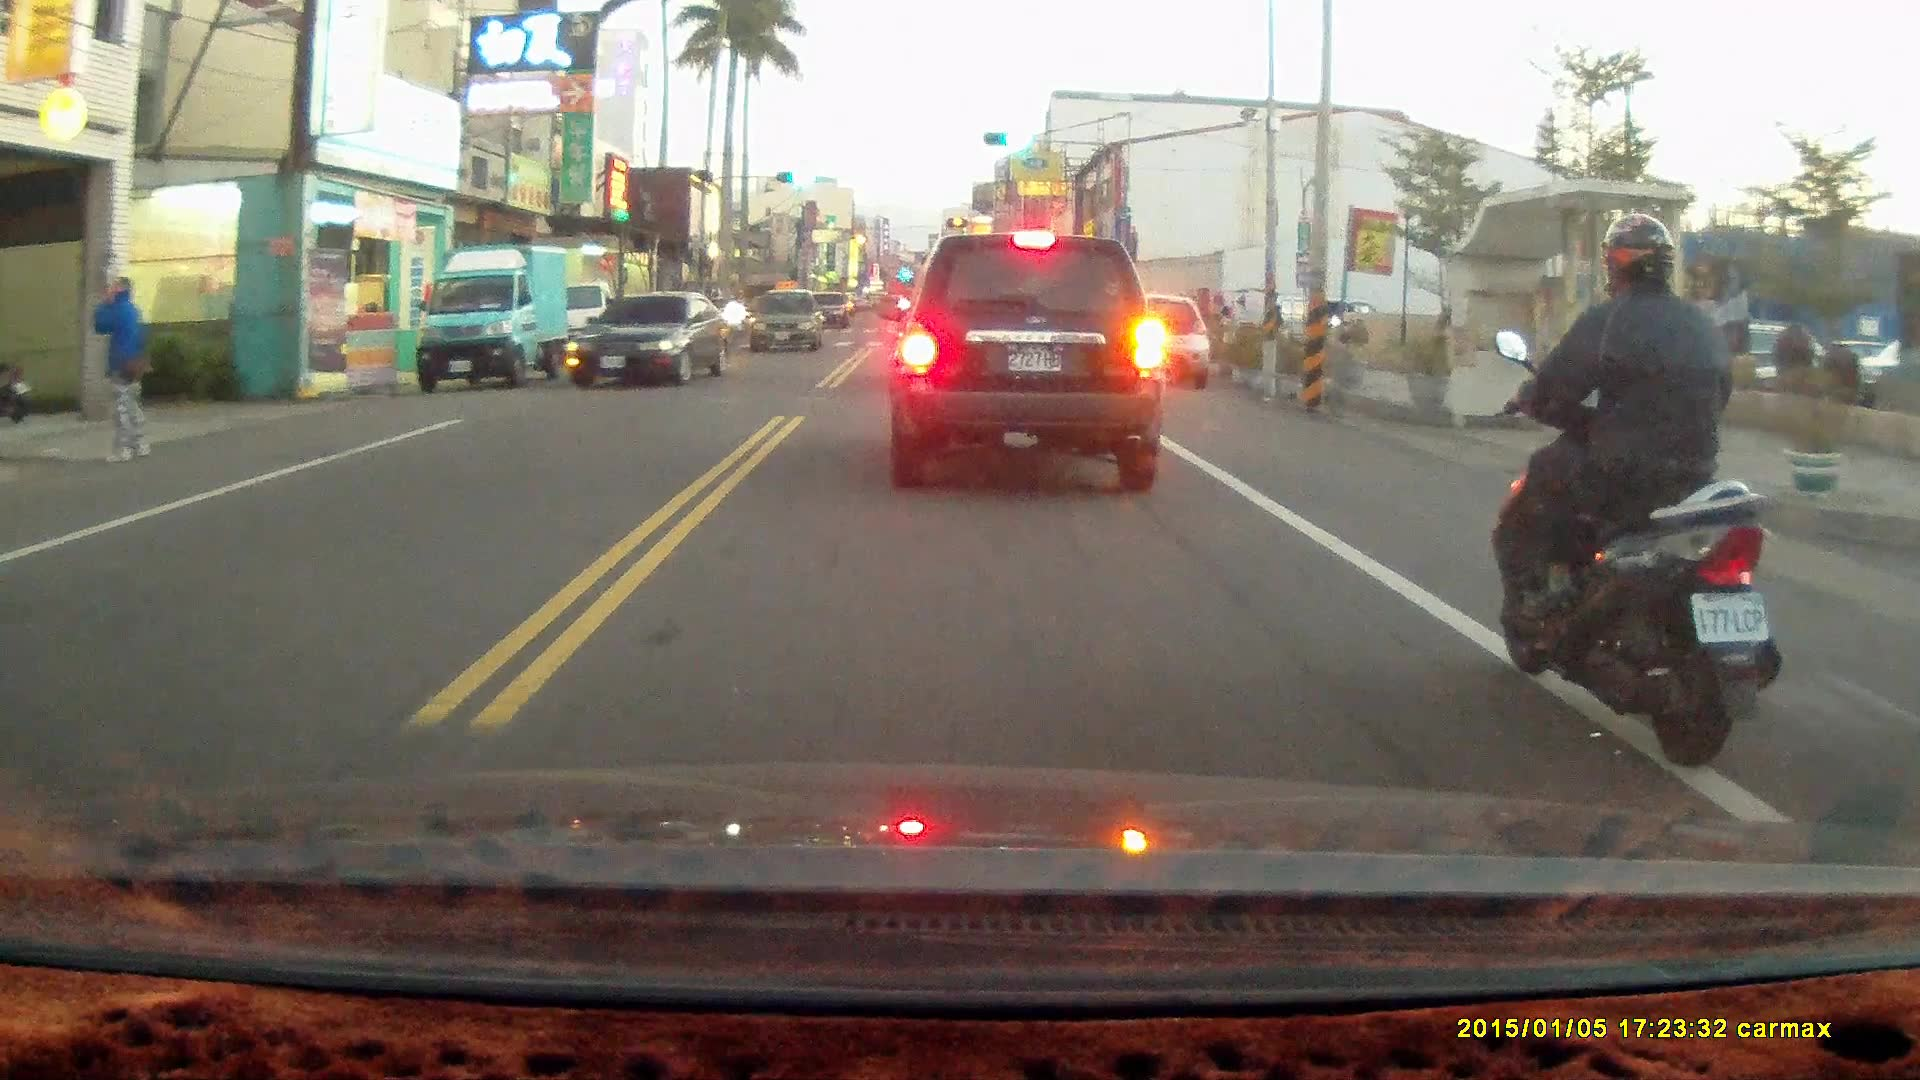pedestrian: (89, 274, 153, 461)
rider: (1488, 210, 1781, 770), (724, 287, 751, 345)
vehicle: (883, 232, 1167, 496), (415, 250, 564, 400), (567, 291, 746, 388), (1106, 293, 1215, 392), (748, 291, 825, 356)
